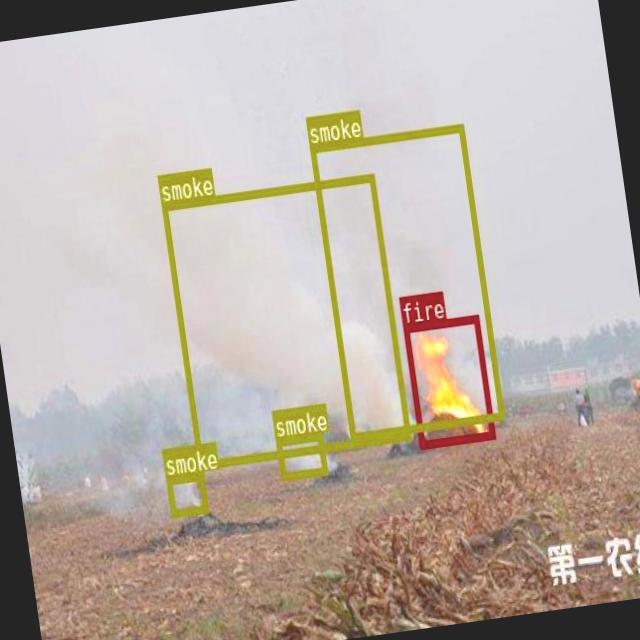fire: (402, 314, 495, 448)
smoke: (160, 172, 410, 468), (310, 122, 503, 440), (274, 430, 327, 480), (165, 472, 208, 516)
